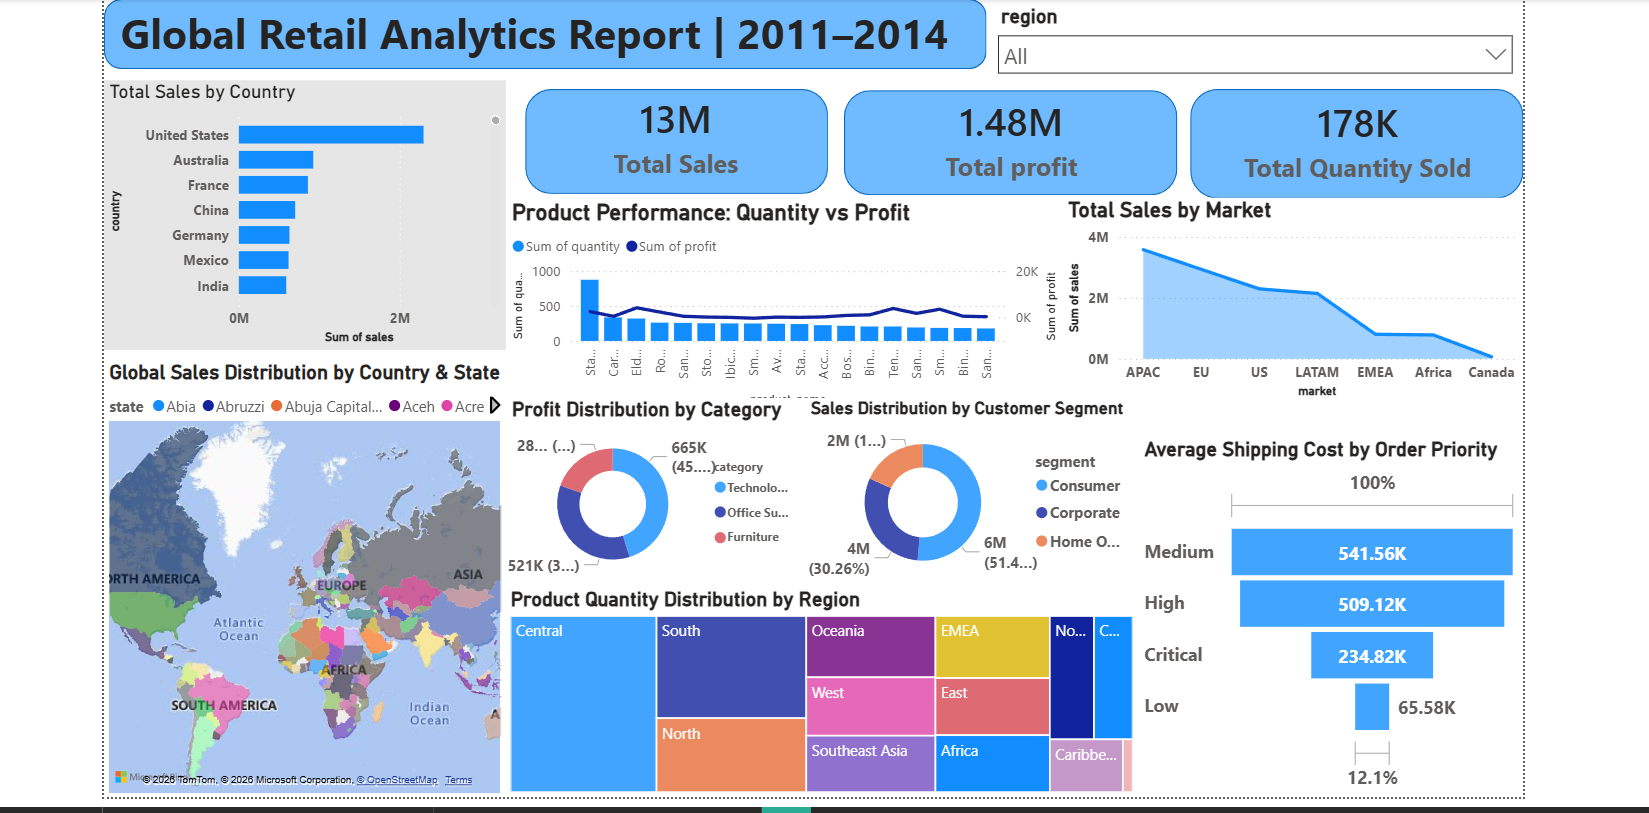

Layout of this report page (visuals, bound fields, positions):
{"tool":"powerbi","page":{"name":"Global Retail Analytics Report 2011 - 2014","canvas":[1280,720],"ordinal":0},"visuals":[{"type":"shape","box":[380.1,81,273.1,94.7],"z":0},{"type":"shape","box":[666.9,82.3,300.5,94.7],"z":1000},{"type":"shape","box":[979.8,81,300.5,98.8],"z":2000},{"type":"shape","box":[0,0,795.9,63.1],"z":3000},{"type":"textbox","box":[9.6,0,772.6,63.1],"z":4000},{"type":"cardVisual","fields":{"Data":["Sum(Super store Analysis.sales)"]},"box":[373.8,70,283.8,106.2],"z":5000},{"type":"cardVisual","fields":{"Data":["Sum(Super store Analysis.profit)"]},"box":[685,70,266.2,111.2],"z":6000},{"type":"cardVisual","fields":{"Data":["Sum(Super store Analysis.quantity)"]},"box":[997.6,70,266.2,113.9],"z":7000},{"type":"slicer","fields":{"Values":["Super store Analysis.region"]},"box":[795.9,0,484.4,72.7],"z":8000},{"type":"clusteredBarChart","title":"Total Sales by Country","fields":{"Category":["Super store Analysis.country"],"Y":["Sum(Super store Analysis.sales)"]},"box":[0,72.7,362.3,242.9],"z":9000},{"type":"filledMap","title":"Global Sales Distribution by Country & State","fields":{"Category":["Super store Analysis.country"],"Series":["Super store Analysis.state"]},"box":[0,325.2,362.3,395.2],"z":10000},{"type":"lineClusteredColumnComboChart","title":"Product Performance: Quantity vs Profit","fields":{"Category":["Super store Analysis.product_name"],"Y2":["Sum(Super store Analysis.profit)"],"Y":["Sum(Super store Analysis.quantity)"]},"box":[362.5,180,502.5,200],"z":11000},{"type":"donutChart","title":"Profit Distribution by Category","fields":{"Y":["Sum(Super store Analysis.profit)"],"Category":["Super store Analysis.category"]},"box":[362.5,360,270,171.2],"z":12000},{"type":"donutChart","title":"Sales Distribution by Customer Segment","fields":{"Y":["Sum(Super store Analysis.sales)"],"Category":["Super store Analysis.segment"]},"box":[632.6,359.5,300.5,171.5],"z":13000},{"type":"funnel","title":"Average Shipping Cost by Order Priority","fields":{"Category":["Super store Analysis.order_priority"],"Y":["Sum(Super store Analysis.shipping_cost)"]},"box":[933.1,395.2,347.2,325.2],"z":14000},{"type":"treemap","title":"Product Quantity Distribution by Region","fields":{"Group":["Super store Analysis.region"],"Values":["Sum(Super store Analysis.quantity)"]},"box":[362.3,531,570.8,189.4],"z":15000},{"type":"stackedAreaChart","title":"Total Sales by Market","fields":{"Category":["Super store Analysis.market"],"Y":["Sum(Super store Analysis.sales)"]},"box":[864.5,179.8,415.8,185.2],"z":16000}]}

Visuals, with their boxes in screenshot pixels (x1, y1, x2, y2):
shape: crop(517, 90, 821, 195)
shape: crop(836, 91, 1170, 197)
shape: crop(1184, 90, 1518, 200)
shape: crop(94, 0, 979, 70)
textbox: crop(105, 0, 964, 70)
cardVisual - Sum(Super store Analysis.sales): crop(510, 78, 825, 196)
cardVisual - Sum(Super store Analysis.profit): crop(856, 78, 1152, 201)
cardVisual - Sum(Super store Analysis.quantity): crop(1203, 78, 1499, 204)
slicer - Super store Analysis.region: crop(979, 0, 1518, 81)
"Total Sales by Country" clusteredBarChart: crop(94, 81, 497, 351)
"Global Sales Distribution by Country & State" filledMap: crop(94, 362, 497, 801)
"Product Performance: Quantity vs Profit" lineClusteredColumnComboChart: crop(497, 200, 1056, 422)
"Profit Distribution by Category" donutChart: crop(497, 400, 798, 591)
"Sales Distribution by Customer Segment" donutChart: crop(798, 400, 1132, 590)
"Average Shipping Cost by Order Priority" funnel: crop(1132, 439, 1518, 801)
"Product Quantity Distribution by Region" treemap: crop(497, 590, 1132, 801)
"Total Sales by Market" stackedAreaChart: crop(1056, 200, 1518, 406)
